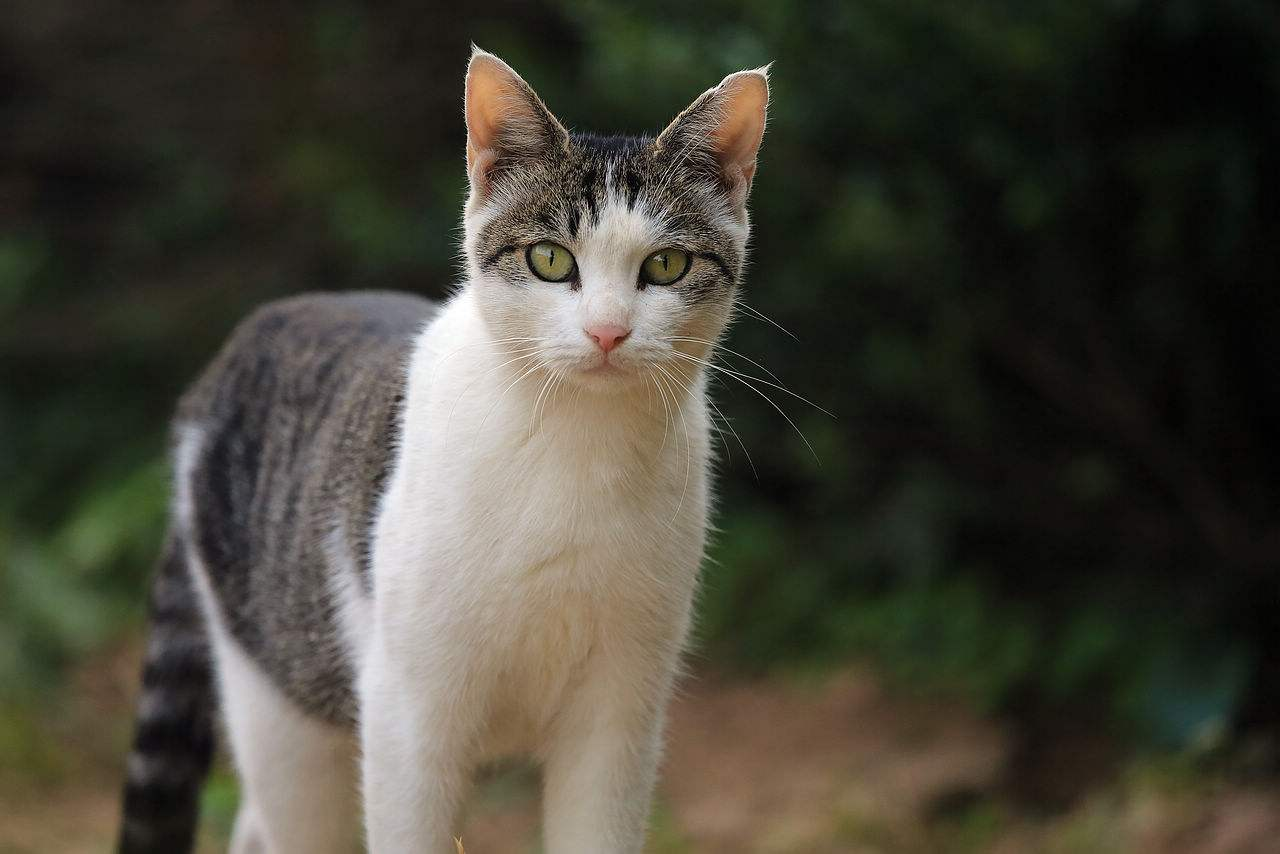cat: (112, 40, 773, 854)
